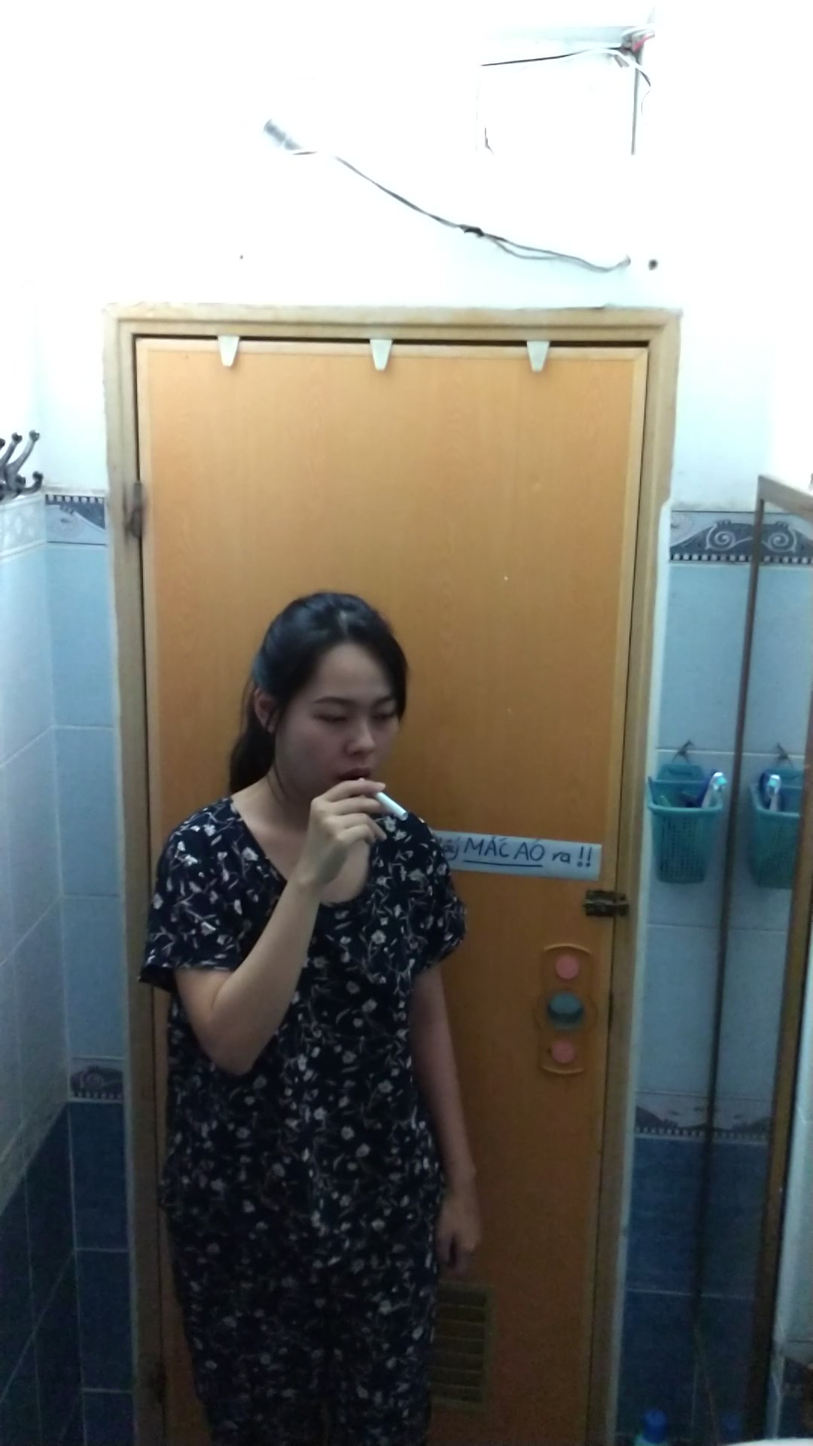cigarette: (370, 786, 412, 826)
person: (141, 569, 489, 1446)
